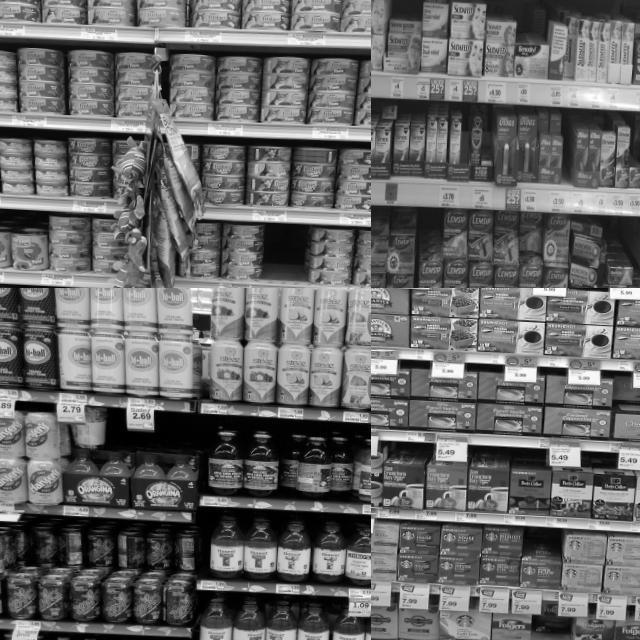Imprecise: (12, 522, 202, 632), (360, 206, 420, 286), (276, 424, 304, 496), (327, 435, 355, 499)
